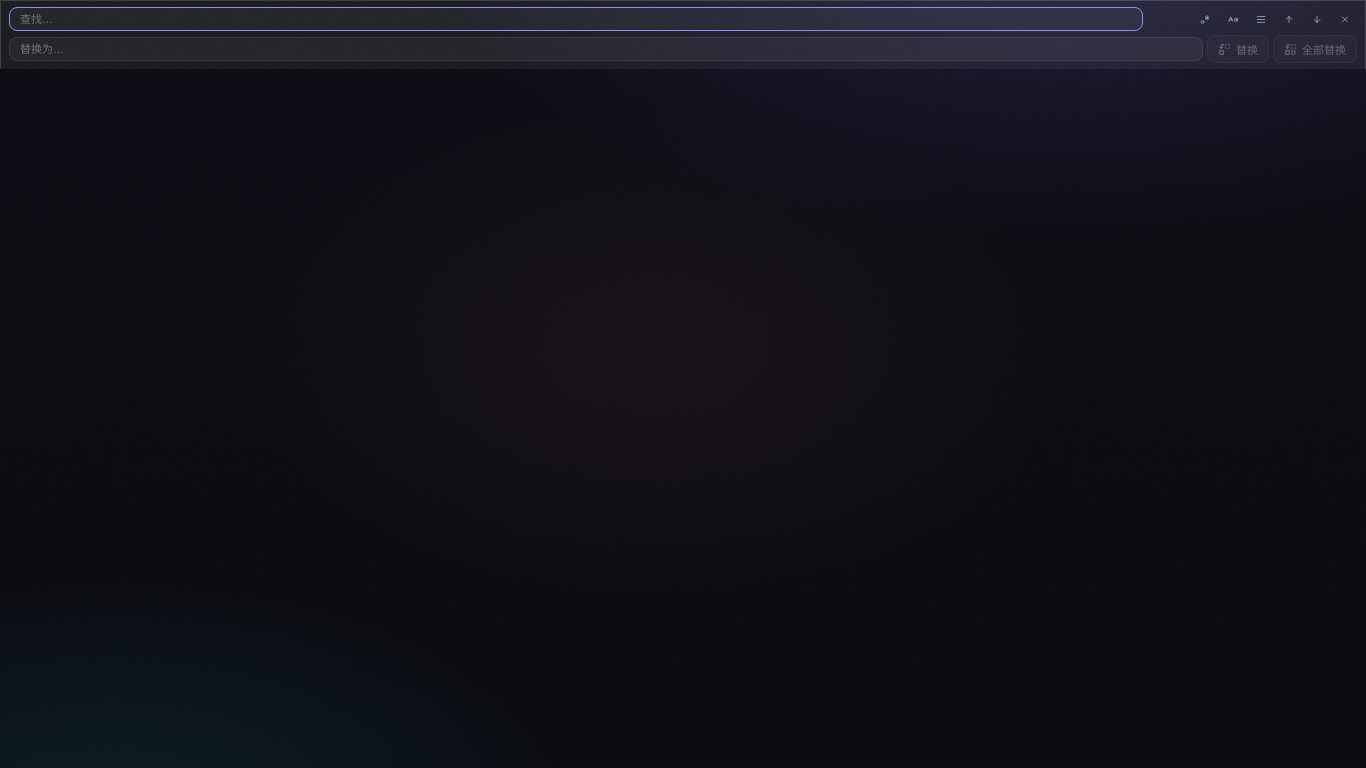
Test: v7 Phase 2 — 正则开关 › 正则模式:按表达式匹配计数
This screenshot has width=1366, height=768.
In the field named "查找内容": [576, 19] box [9,7,1143,31], type "\\d"
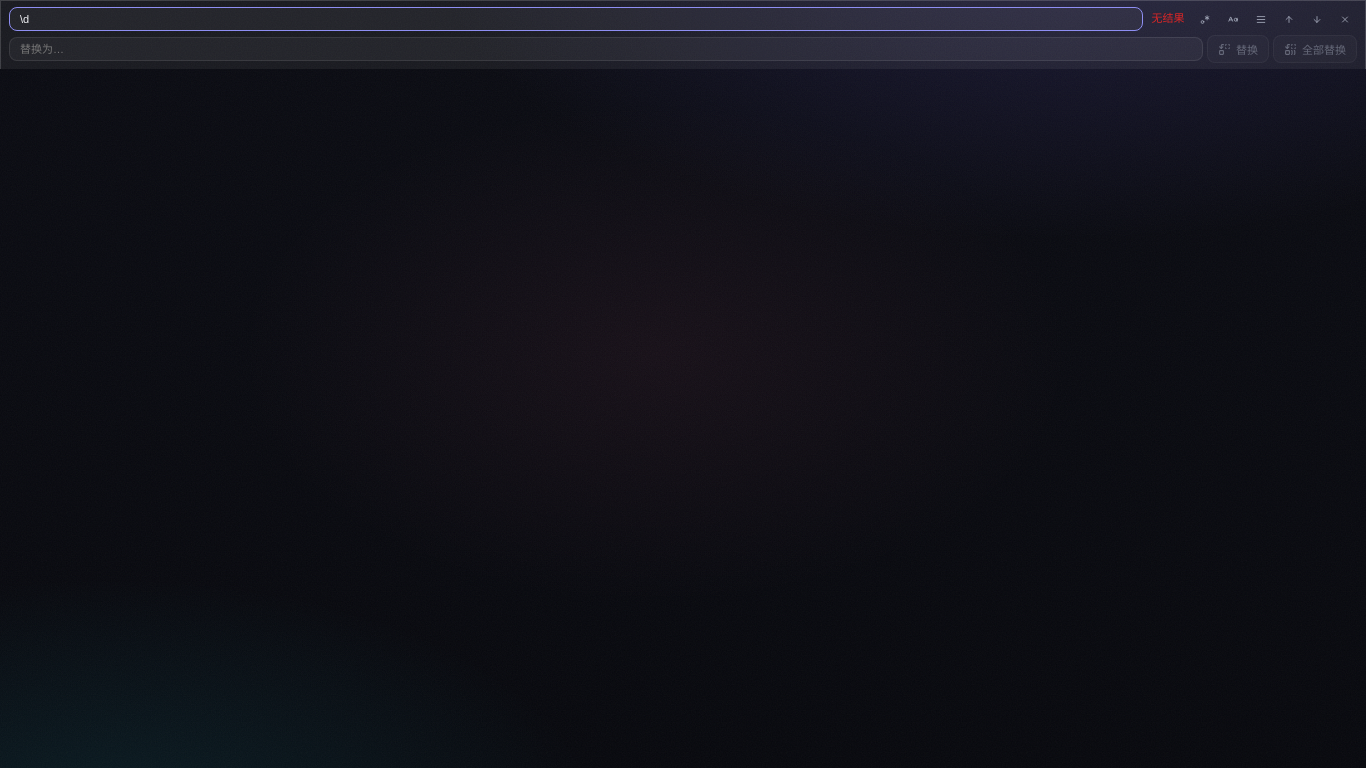
Click the button named "正则匹配": [1205, 19] box [1193,7,1217,31]
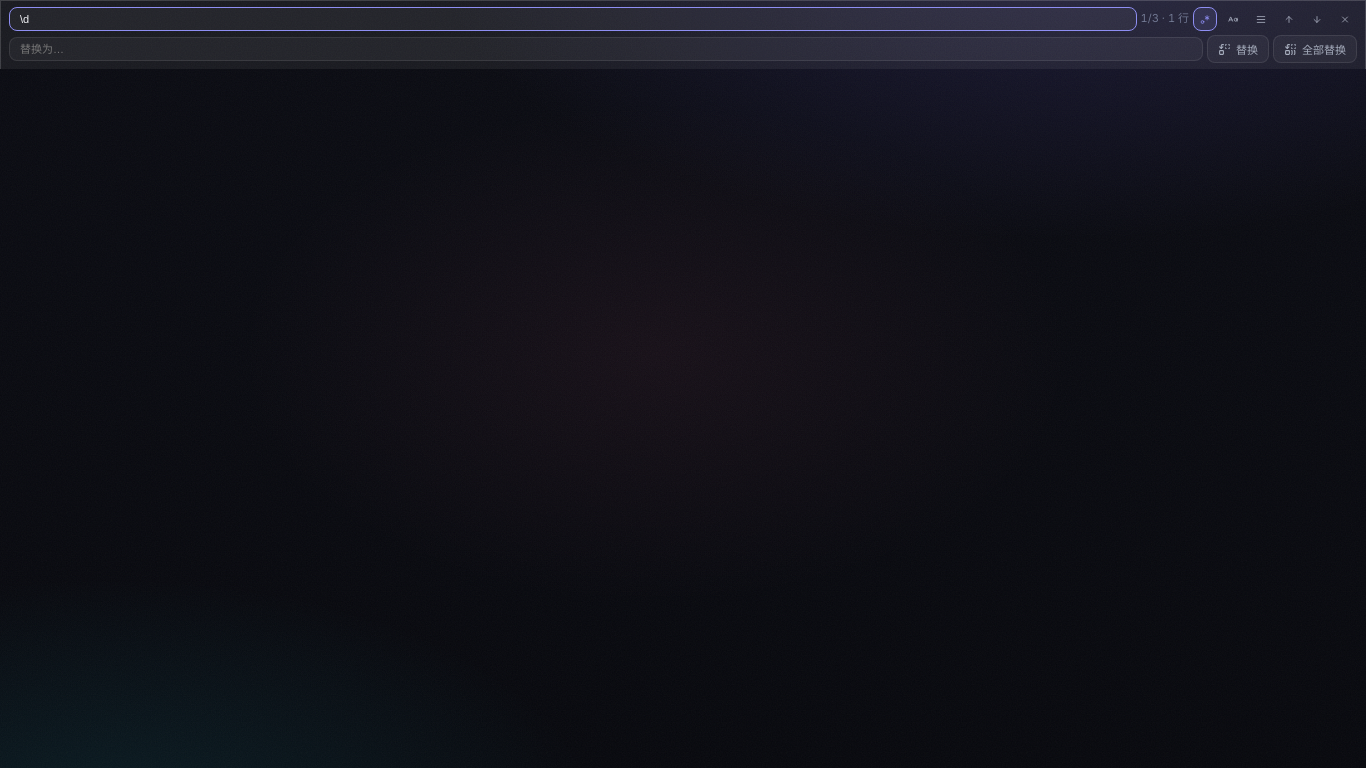
Expected: the text "1/3 · 1 行" is shown, [1141,10,1189,28]
